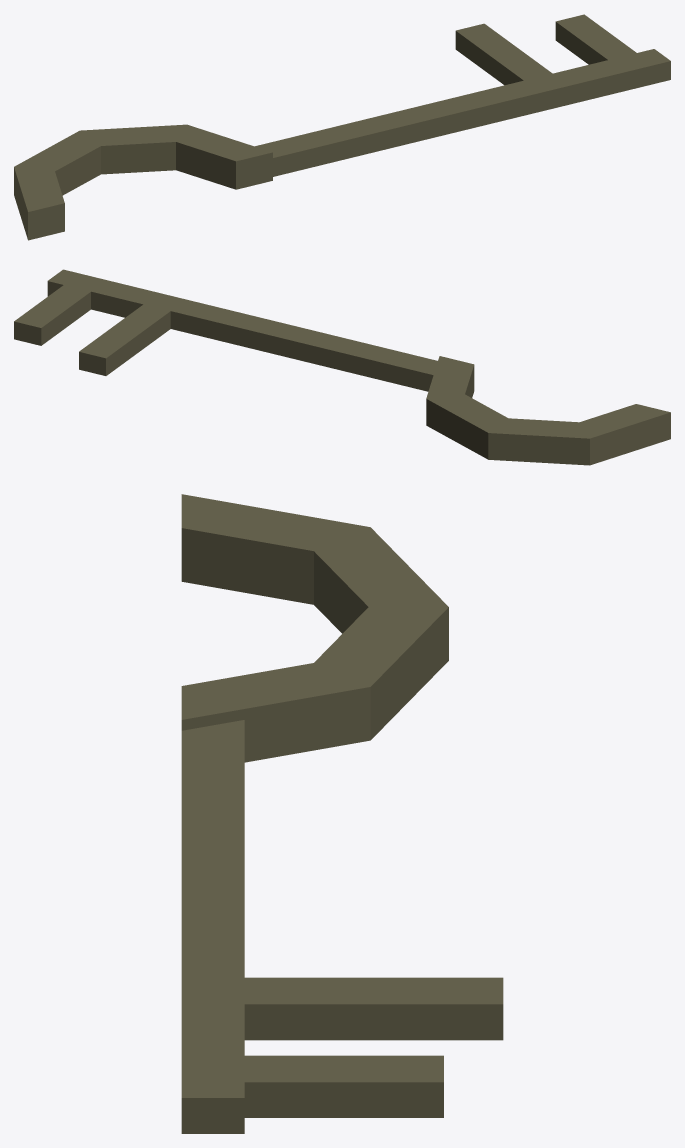
Rendered from key1.fbx.
3 renders of one model, top to bottom at view 1: azimuth 30°, elevation 25°; view 2: azimuth 150°, elevation 25°; view 3: azimuth 270°, elevation 25°, orthographic. The views are drawn at different scales.
Parts seen in each view (by area): view 1: key1; view 2: key1; view 3: key1.
Boxes of the visible parts, left/top/right/bottom form: key1: left=14, top=14, right=670, bottom=240; key1: left=14, top=269, right=670, bottom=465; key1: left=181, top=494, right=503, bottom=1133.
Bounding box in the file's own units: 117 × 4.96 × 26.9.
1 material, 1 textured.
